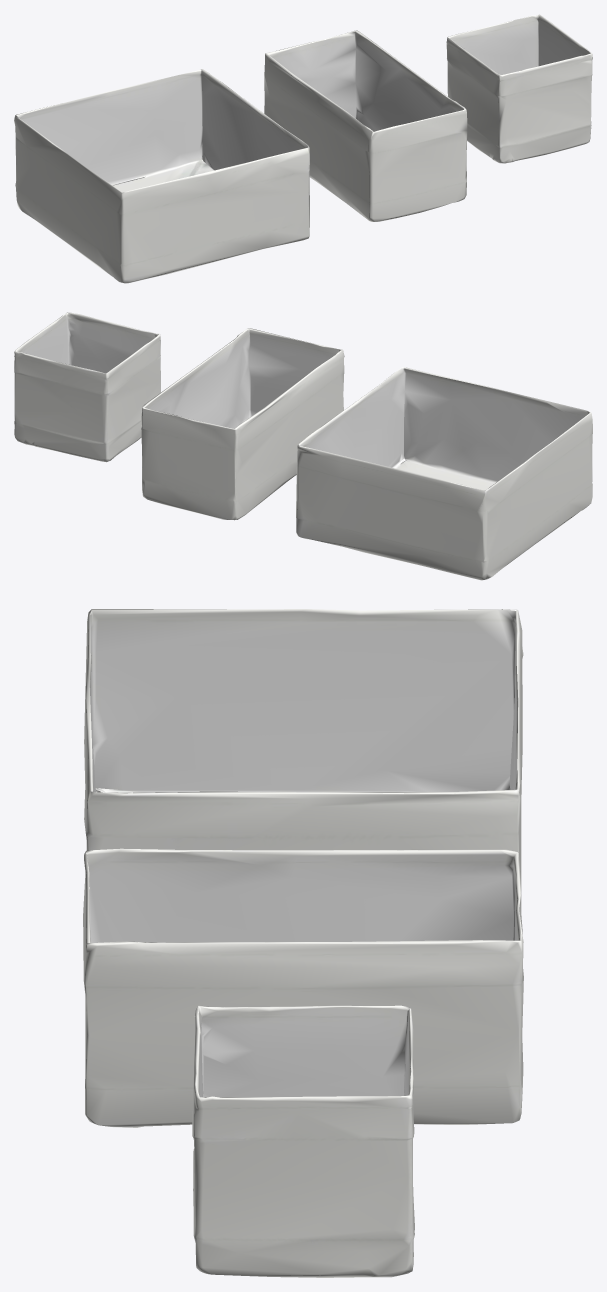
The model's file is SKUBB Rangement 6 pièces blanc.glb.
The picture shows the model from 3 angles, top to bottom: view 1: azimuth 30°, elevation 25°; view 2: azimuth 150°, elevation 25°; view 3: azimuth 270°, elevation 25°; orthographic projection. The views are drawn at different scales.
Parts seen in each view (by area): view 1: ASY_LPT01_00428549_S01_NV01, ASY_LPT02_00428549_S01_NV01, ASY_LPT03_00428549_S01_NV01; view 2: ASY_LPT01_00428549_S01_NV01, ASY_LPT02_00428549_S01_NV01, ASY_LPT03_00428549_S01_NV01; view 3: ASY_LPT01_00428549_S01_NV01, ASY_LPT02_00428549_S01_NV01, ASY_LPT03_00428549_S01_NV01.
Boxes of the visible parts, x1,y1,x2,y2 form: ASY_LPT01_00428549_S01_NV01: (14, 69, 309, 283); ASY_LPT02_00428549_S01_NV01: (264, 30, 467, 221); ASY_LPT03_00428549_S01_NV01: (446, 14, 592, 163); ASY_LPT01_00428549_S01_NV01: (296, 367, 592, 580); ASY_LPT02_00428549_S01_NV01: (141, 328, 344, 520); ASY_LPT03_00428549_S01_NV01: (14, 312, 160, 462); ASY_LPT01_00428549_S01_NV01: (84, 609, 523, 933); ASY_LPT02_00428549_S01_NV01: (83, 848, 523, 1127); ASY_LPT03_00428549_S01_NV01: (192, 1005, 414, 1277).
Bounding box in the file's own units: 0.743 × 0.1354 × 0.2835.
Materials: 3 (3 with a texture image).
